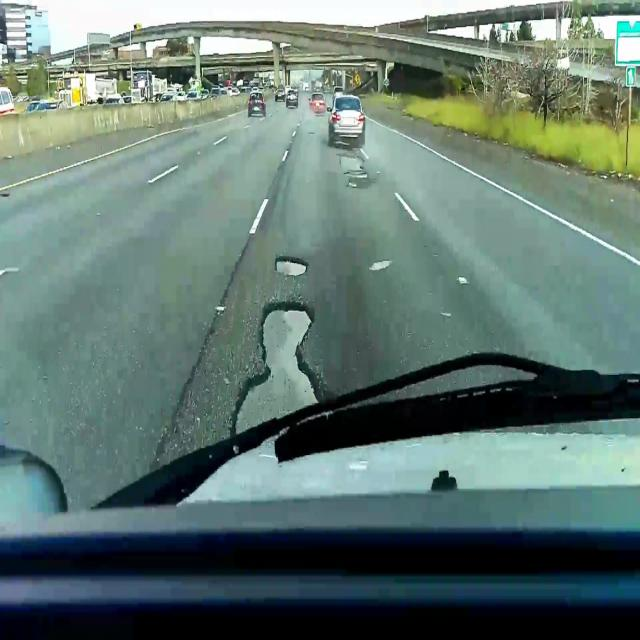Pothole: (229, 299, 327, 445), (273, 253, 309, 278), (338, 152, 365, 171), (343, 172, 368, 178), (308, 132, 315, 135)
